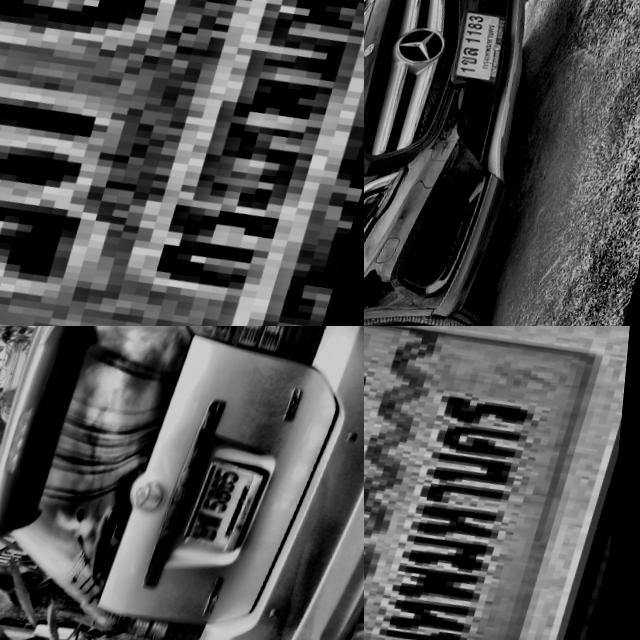license-plate: (0, 0, 364, 326), (364, 326, 640, 640), (176, 455, 282, 565), (444, 10, 523, 101)
